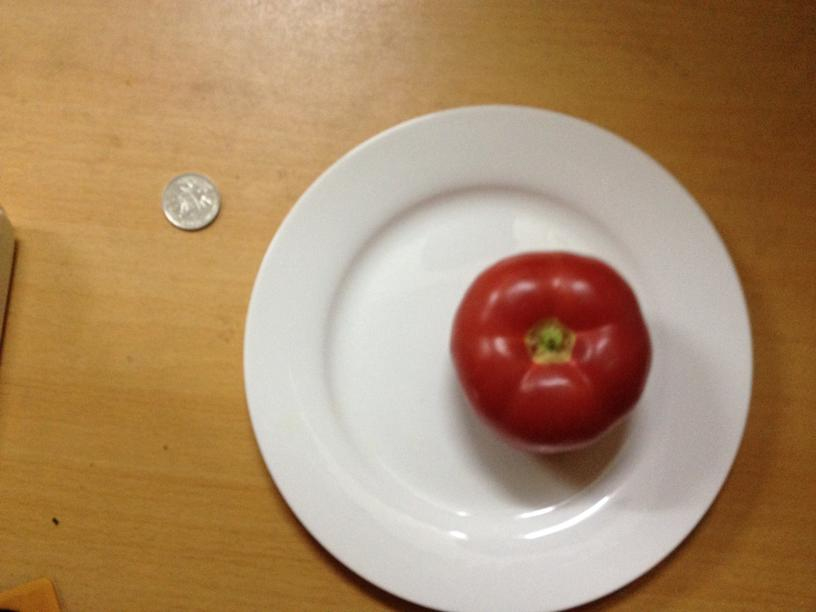coin: (161, 171, 220, 230)
tomato: (448, 250, 654, 450)
